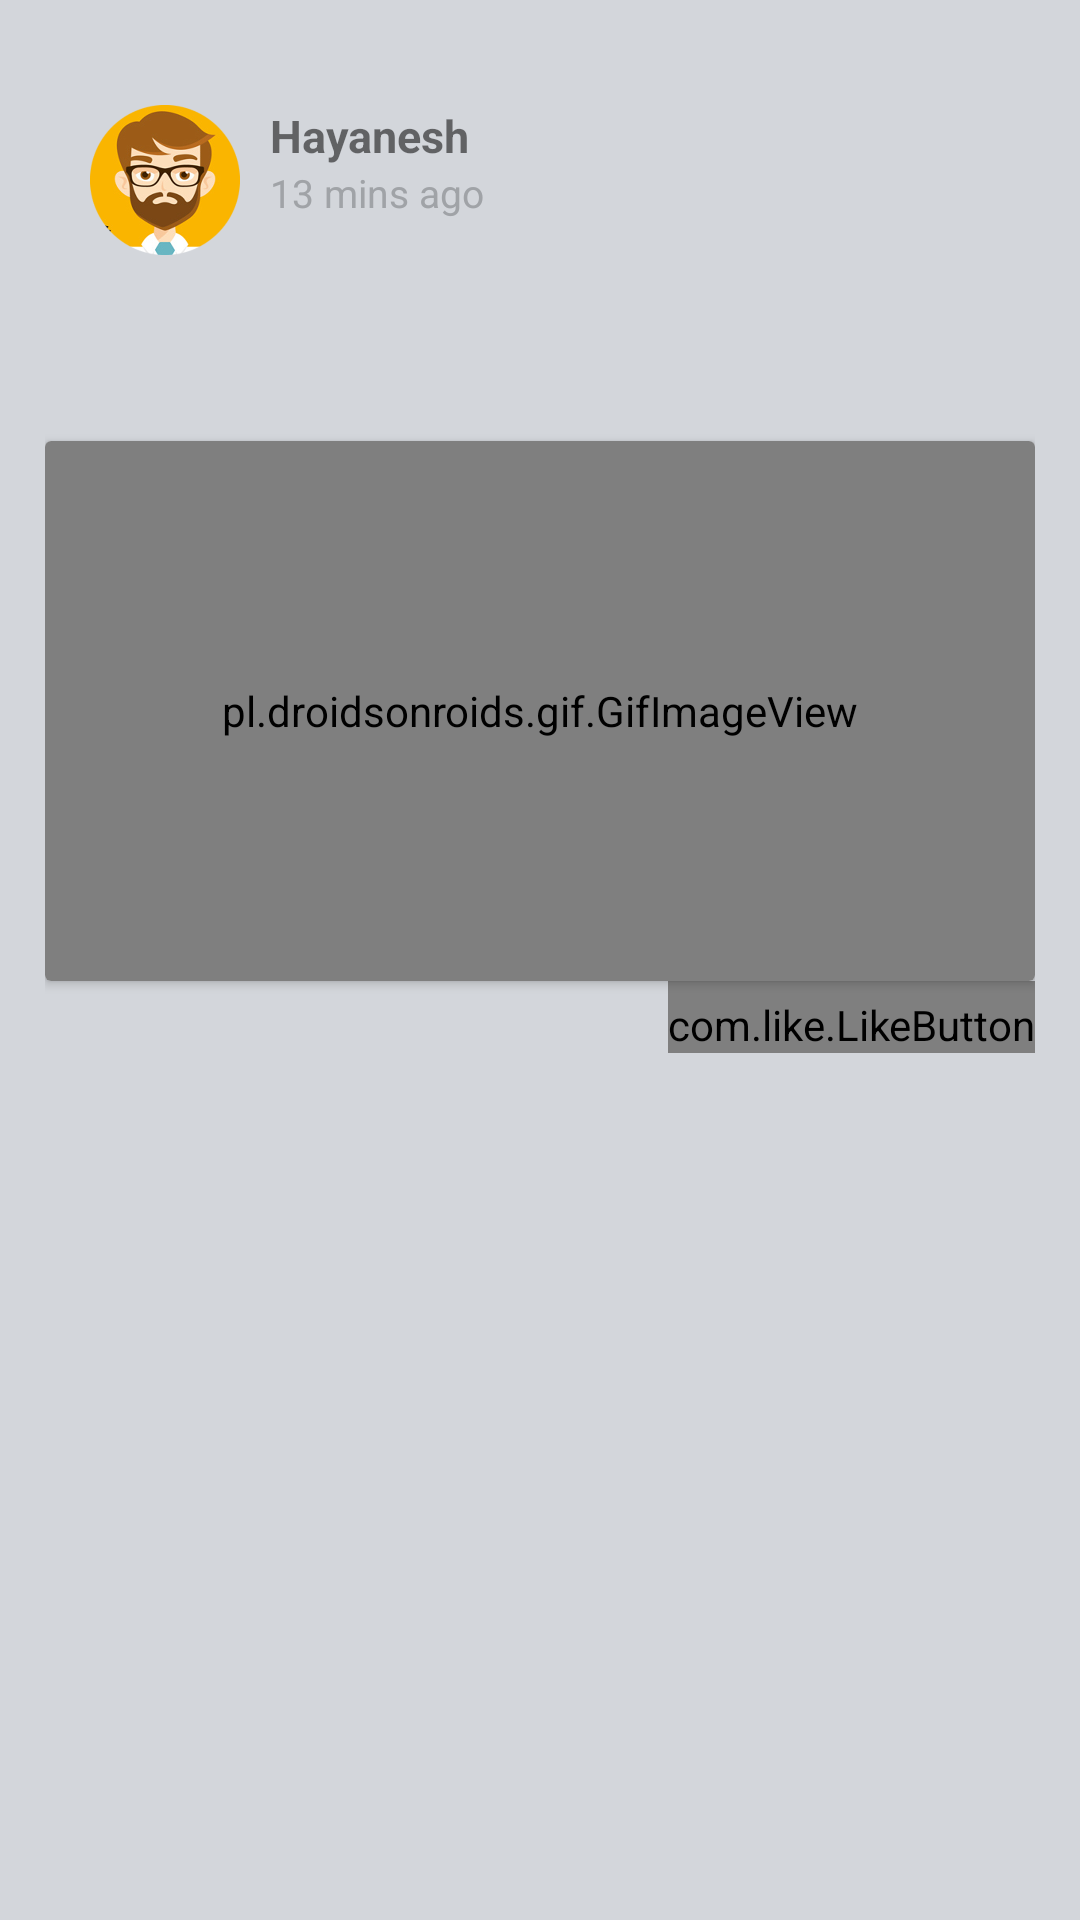

Named icons in this screenshot (1080w x 1920h) and their bounding boxes, (x1, y1, x2, y2):
men comic: (90, 105, 240, 255)
